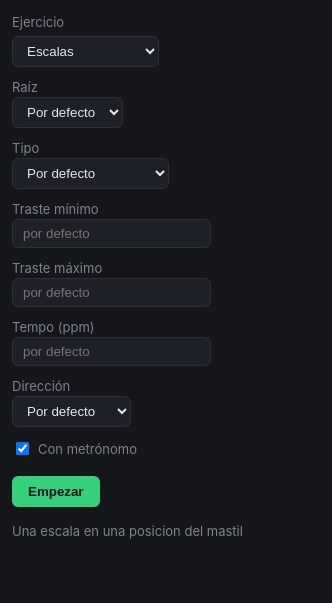
it: Ejercicios › un error del servidor al generar se muestra al usuario
The image size is (332, 603).
Step 1. Click the button "Empezar" → x=56, y=492, box [12,476,100,507]
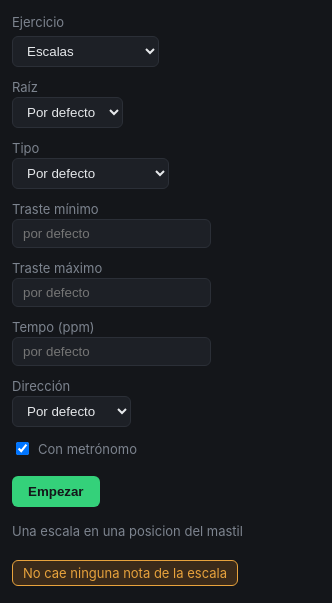
Expected: the text "No cae ninguna nota de la escala" is shown, [12,560,238,586]
